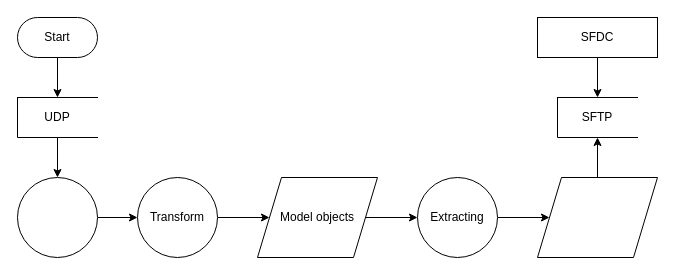
This 675x275 diagram has some shape labels left out. The centre of each missing label's shape, as x and y in pixels:
"CSV files" goes at [597,217].
"Mapping" goes at [57,217].
